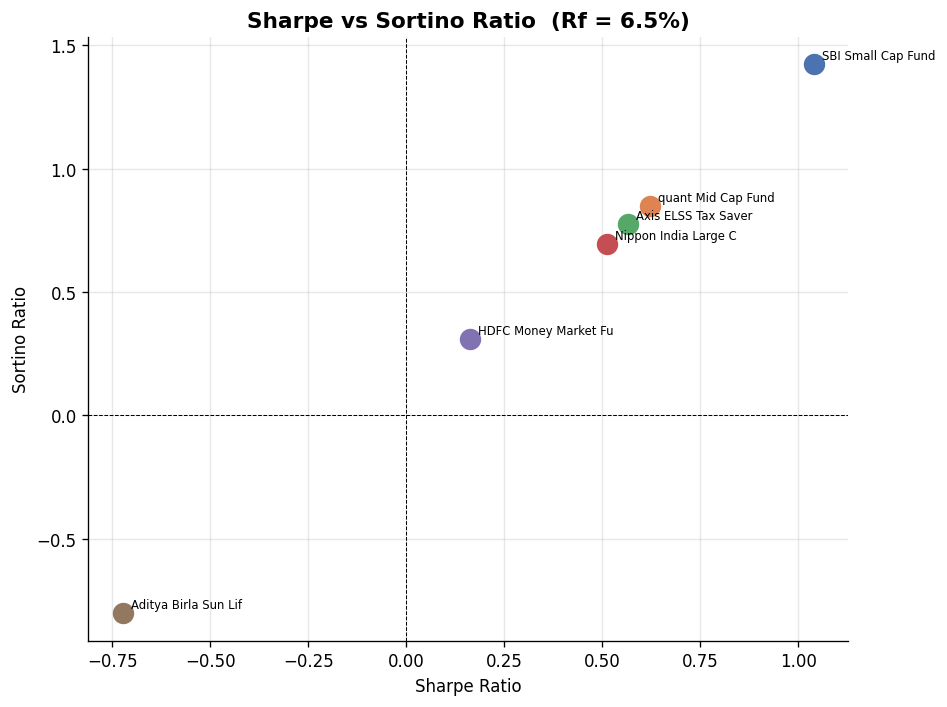

The dashboard page shown, as its layout file describes it:
{"tool":"tableau","page":{"name":"Page 1 - Industry Overview","canvas":[1000,1000],"units":"permille","ordinal":0},"visuals":[{"type":"title","box":[0,0,1000,1000]}]}

Visuals, with their boxes on the dashboard's canvas, which has no fixed pixel size, in thousandths of its width and height (x1, y1, x2, y2). These are canvas units, not pixel positions in the 947x707 screenshot, which may show the page scaled, cropped or inside an application window:
title: bbox=(0, 0, 1000, 1000)
